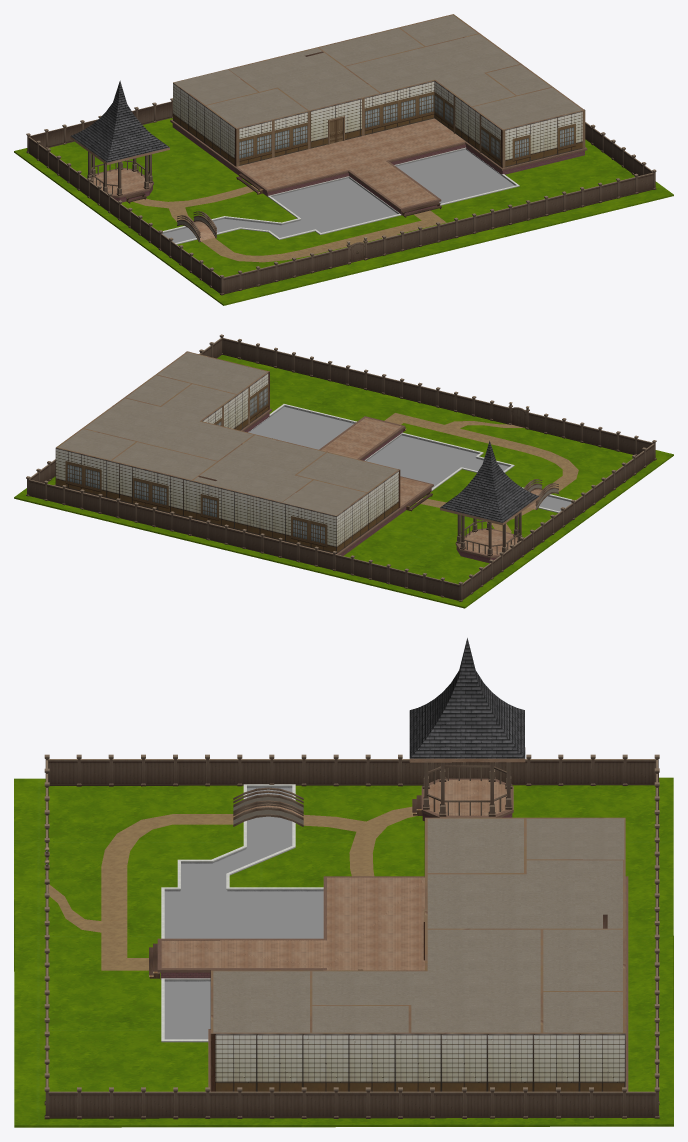
The model's file is rxi_1f.FBX.
The picture shows the model from 3 angles, top to bottom: view 1: azimuth 30°, elevation 25°; view 2: azimuth 150°, elevation 25°; view 3: azimuth 270°, elevation 25°; orthographic projection. The views are drawn at different scales.
Parts seen in each view (by area): view 1: DrawCall_1481, DrawCall_1764, Line006, Group013, DrawCall_1749, DrawCall_1748, Rectangle004, Line001, DrawCall_1709, Line008, Object018, DrawCall_1731 (+3 smaller); view 2: DrawCall_1481, DrawCall_1764, Line006, Group013, DrawCall_1749, Object018, Rectangle004, DrawCall_1709, Line008, DrawCall_1748, Line001, DrawCall_1731 (+2 smaller); view 3: DrawCall_1481, DrawCall_1764, Line006, Group013, DrawCall_1749, DrawCall_1748, Line008, DrawCall_1709, Object018, Line001, DrawCall_1731, Object024 (+3 smaller).
Boxes of the visible parts, x1=… form: DrawCall_1481: x1=14, y1=118, x2=673, y2=305; DrawCall_1764: x1=174, y1=15, x2=582, y2=129; Line006: x1=28, y1=101, x2=653, y2=294; Group013: x1=173, y1=14, x2=584, y2=167; DrawCall_1749: x1=163, y1=150, x2=514, y2=242; DrawCall_1748: x1=237, y1=118, x2=465, y2=207; Rectangle004: x1=239, y1=91, x2=575, y2=162; Line001: x1=170, y1=119, x2=587, y2=215; DrawCall_1709: x1=70, y1=80, x2=169, y2=162; Line008: x1=133, y1=185, x2=446, y2=262; Object018: x1=26, y1=98, x2=656, y2=295; DrawCall_1731: x1=162, y1=147, x2=519, y2=244; DrawCall_1481: x1=14, y1=355, x2=673, y2=608; DrawCall_1764: x1=58, y1=352, x2=397, y2=515; Line006: x1=28, y1=338, x2=654, y2=600; Group013: x1=55, y1=351, x2=399, y2=553; DrawCall_1749: x1=249, y1=407, x2=571, y2=511; Object018: x1=26, y1=334, x2=656, y2=601; Rectangle004: x1=65, y1=383, x2=327, y2=547; DrawCall_1709: x1=440, y1=441, x2=538, y2=522; Line008: x1=384, y1=413, x2=578, y2=533; DrawCall_1748: x1=321, y1=417, x2=430, y2=506; Line001: x1=54, y1=408, x2=433, y2=555; DrawCall_1731: x1=248, y1=404, x2=575, y2=512; DrawCall_1481: x1=14, y1=777, x2=673, y2=1127; DrawCall_1764: x1=213, y1=818, x2=624, y2=1032; Line006: x1=46, y1=759, x2=657, y2=1118; Group013: x1=211, y1=817, x2=625, y2=1091; DrawCall_1749: x1=164, y1=788, x2=323, y2=1039; DrawCall_1748: x1=161, y1=877, x2=424, y2=970; Line008: x1=48, y1=806, x2=417, y2=970; DrawCall_1709: x1=409, y1=638, x2=525, y2=758; Object018: x1=44, y1=754, x2=659, y2=1119; Line001: x1=157, y1=876, x2=628, y2=1091; DrawCall_1731: x1=161, y1=784, x2=323, y2=1042; Object024: x1=428, y1=780, x2=506, y2=815.
Bounding box in the file's own units: 5140 × 1367 × 4133.
Materials: 13 (11 with a texture image).
